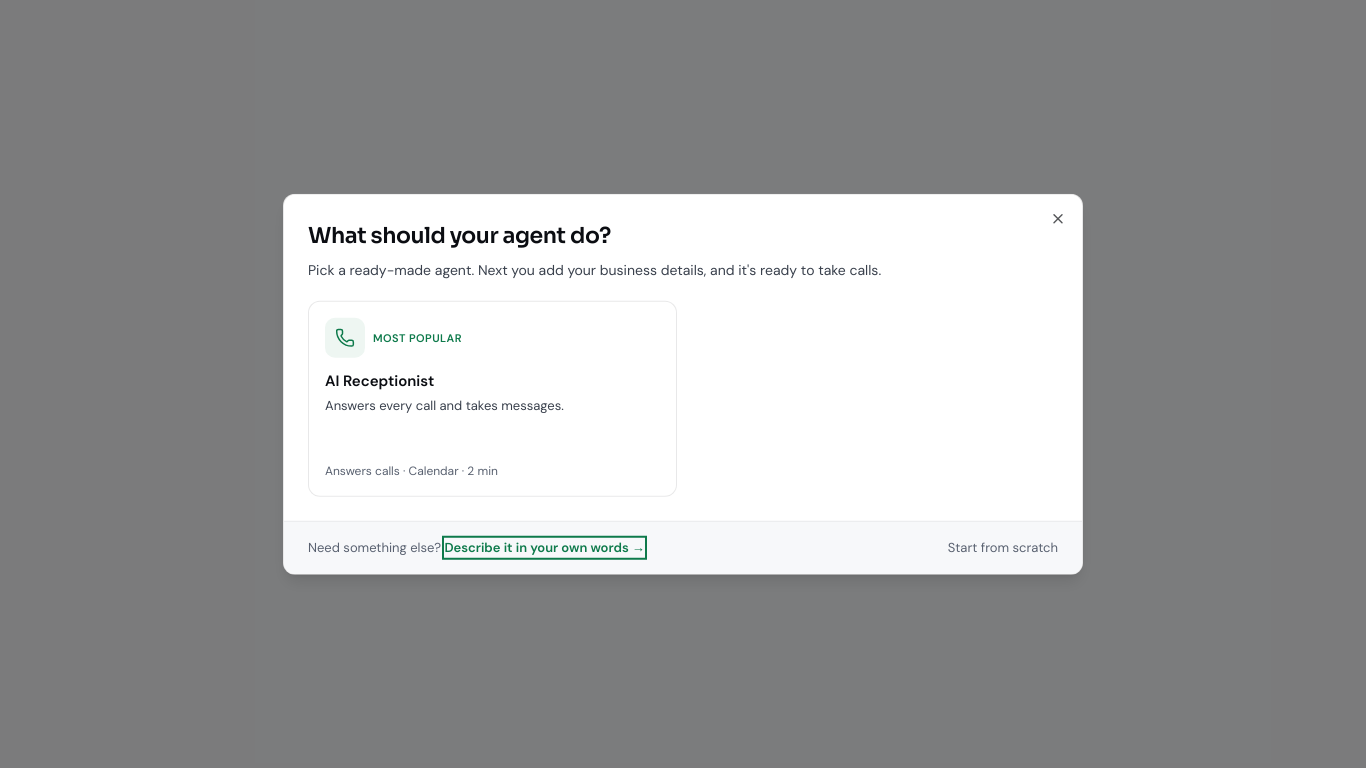
says so when calendar connections are off on this server
Click the button "AI Receptionist": (492, 399) [308,301,677,497]
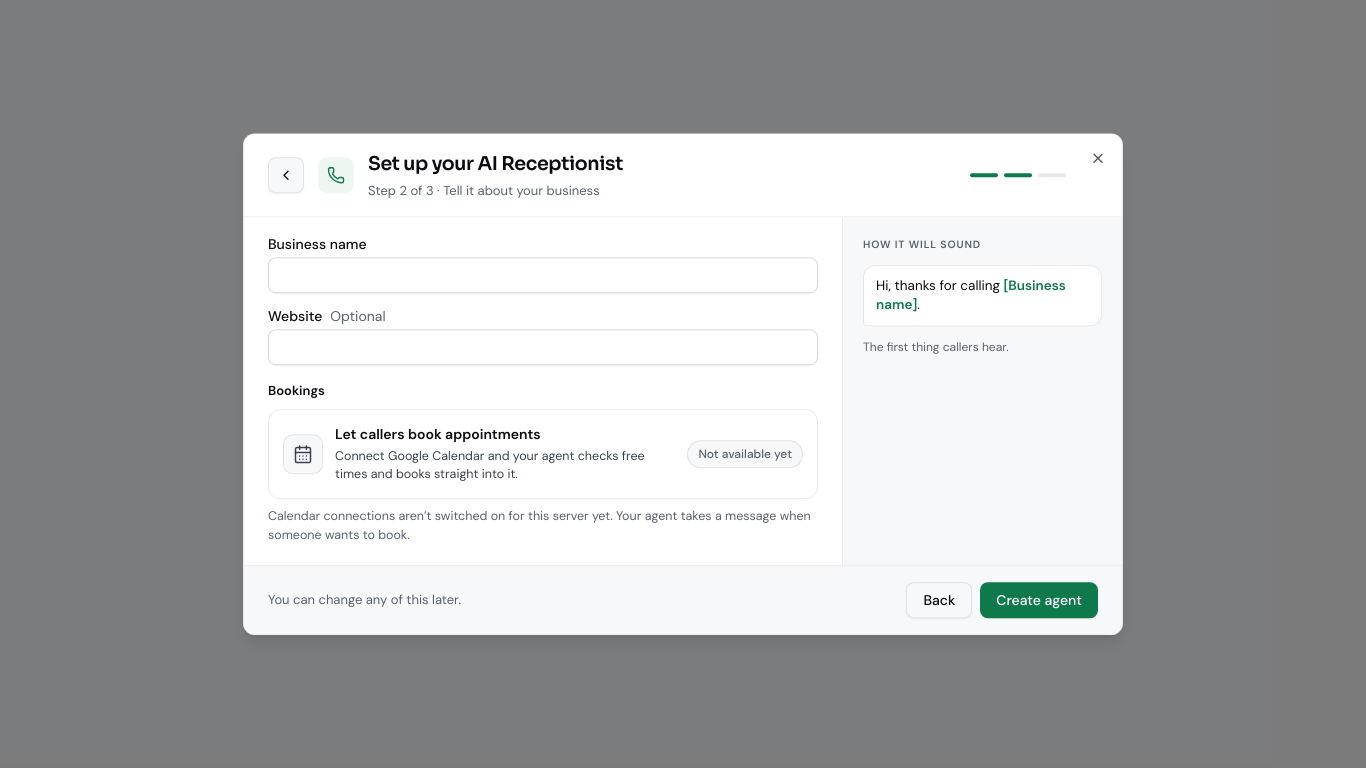
Check: the text "aren’t switched on for this server yet" is shown, box [268,508,811,543]
Check: the text "Not available yet" is shown, box [687,440,803,468]
